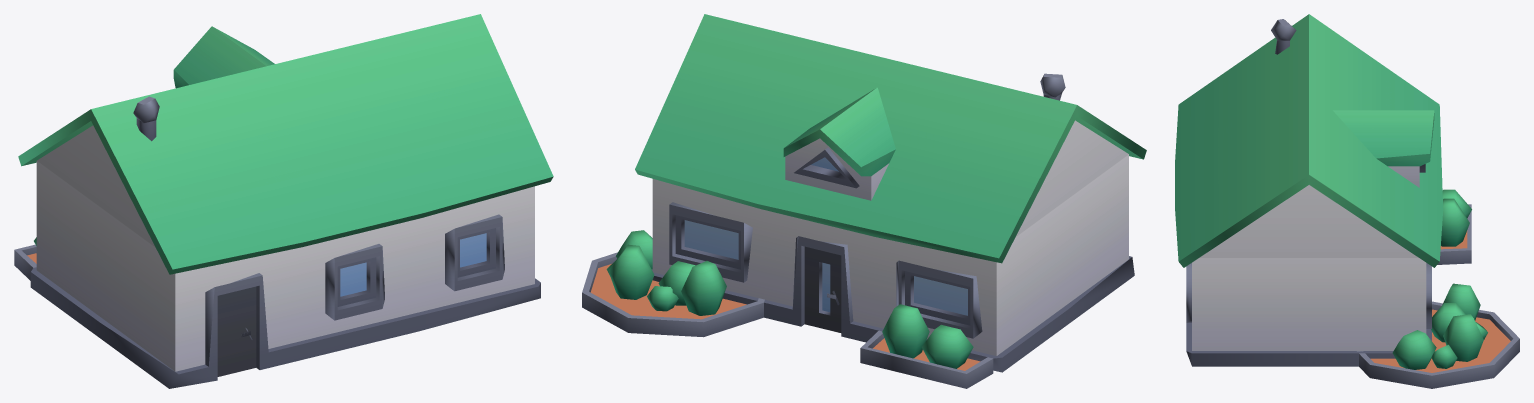
File: 060_city-kit-suburban_building-type-g_card.glb
3 views of the same model, side by side, from view 1: azimuth 30°, elevation 25°; view 2: azimuth 150°, elevation 25°; view 3: azimuth 270°, elevation 25° (orthographic). The views are drawn at different scales.
Parts seen in each view (by area): view 1: building-type-g; view 2: building-type-g; view 3: building-type-g.
Part boxes in pixels (x1,y1,x2,y2): building-type-g: (14, 14, 553, 388); building-type-g: (582, 14, 1146, 388); building-type-g: (1175, 14, 1519, 388).
Size of the model in its own units: 1.45 by 0.7682 by 1.18.
1 material, 1 textured.
